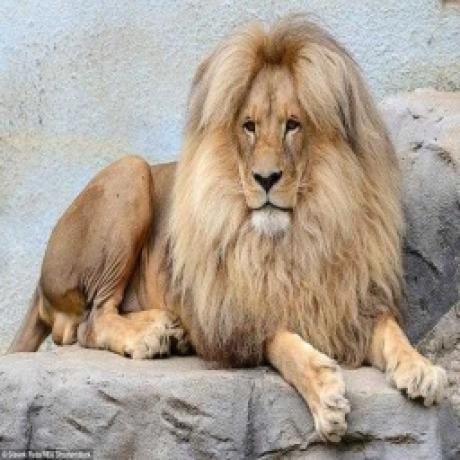Lion: (8, 11, 451, 443)
